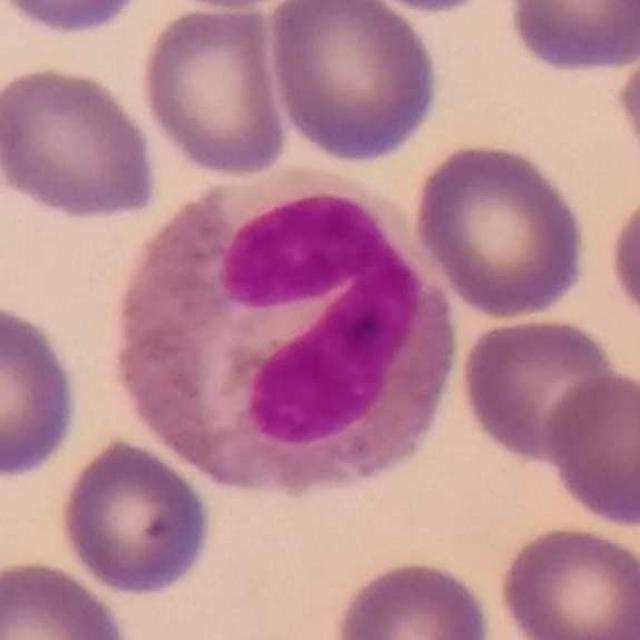eosino: (117, 172, 460, 502)
